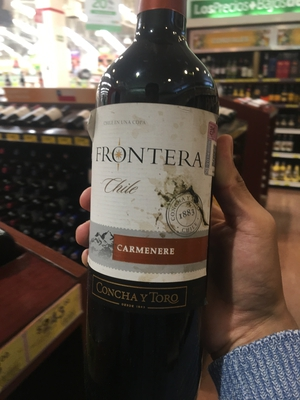frontera carmenere: (81, 14, 235, 400)
